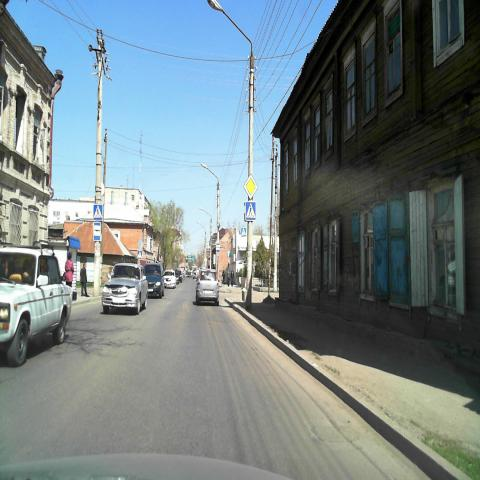2_1: (244, 174, 258, 200)
5_16: (93, 222, 101, 240)
5_19_1: (245, 202, 256, 220), (94, 205, 102, 220), (241, 228, 247, 236)
